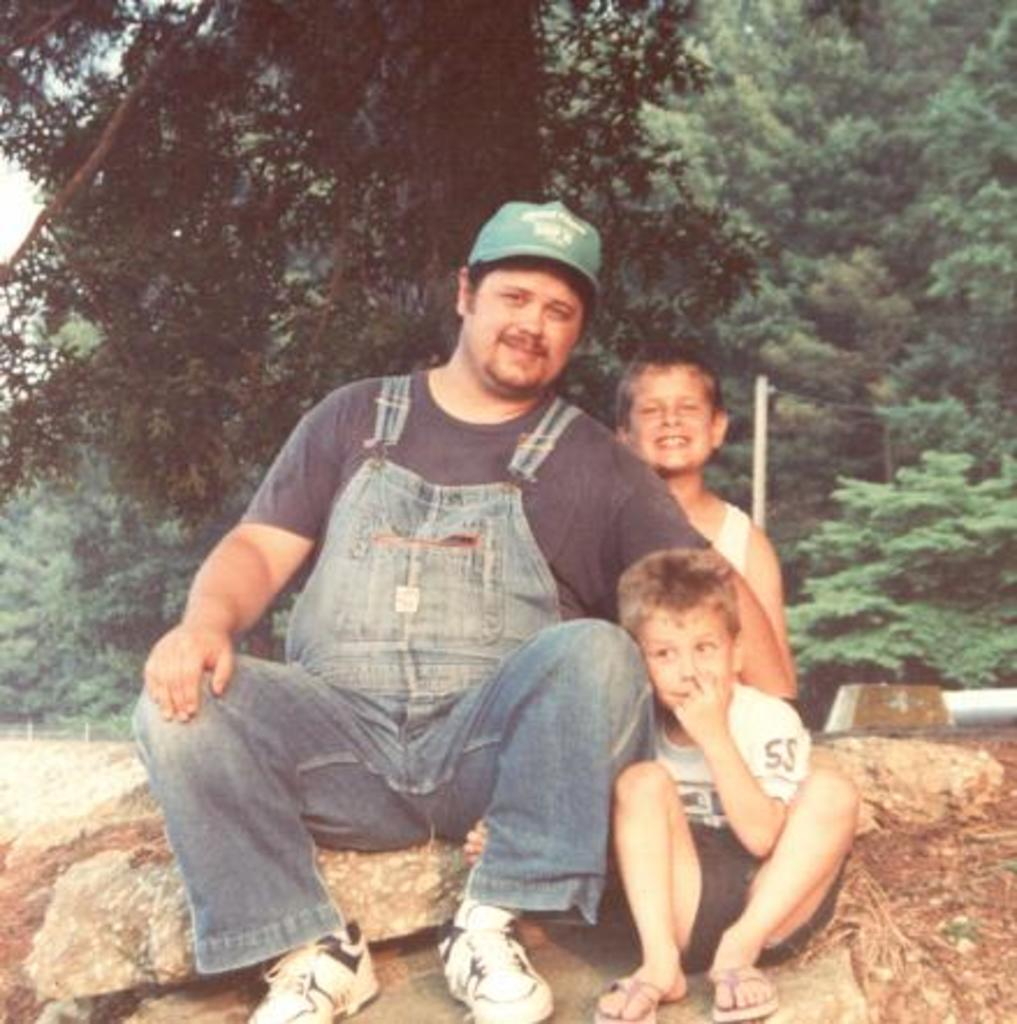Hat: (468, 200, 600, 314)
